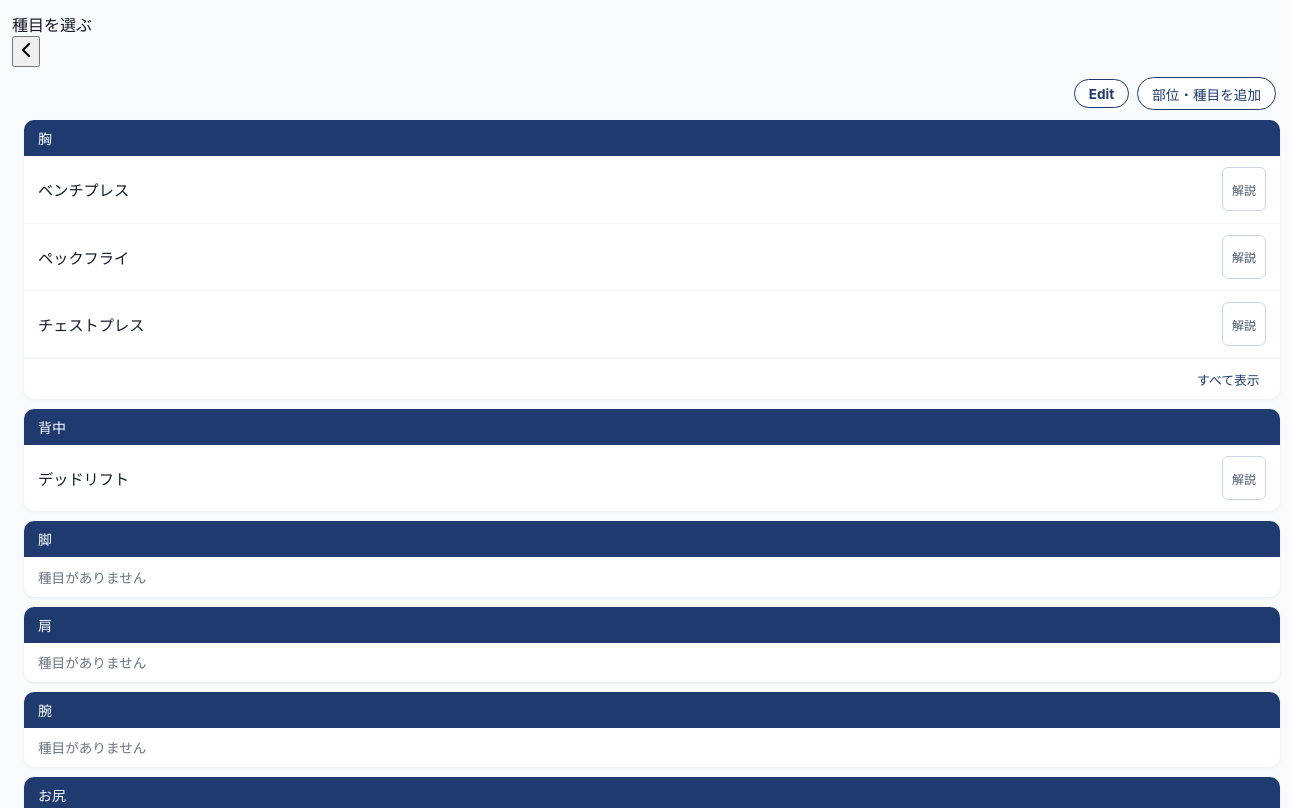
Test: ExerciseSelectPage › 「閉じる」クリックで「すべて表示」に戻る
The image size is (1292, 808).
Step 1. Click the button "すべて表示" → point(1228, 379), box [1191,366,1266,392]
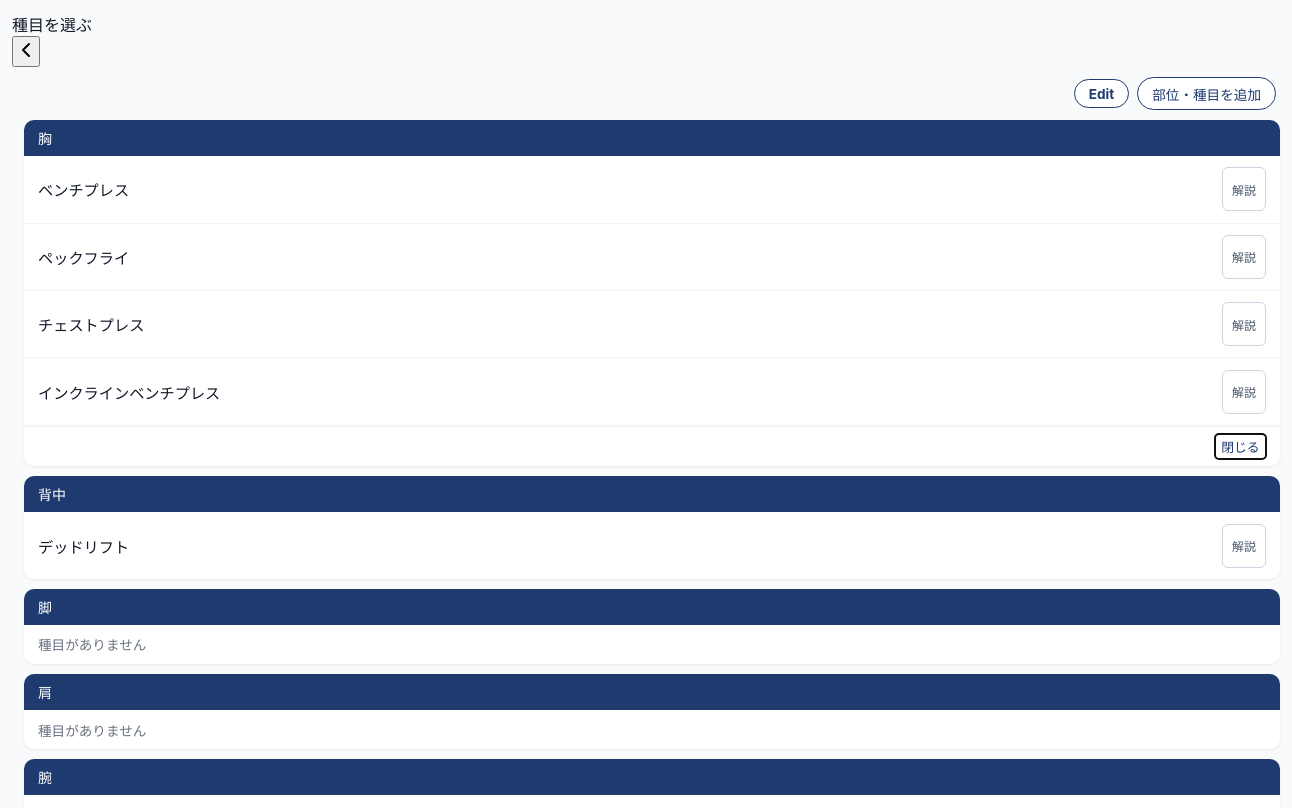
Step 2. Click the button "閉じる" → point(1240, 447), box [1215,434,1266,459]
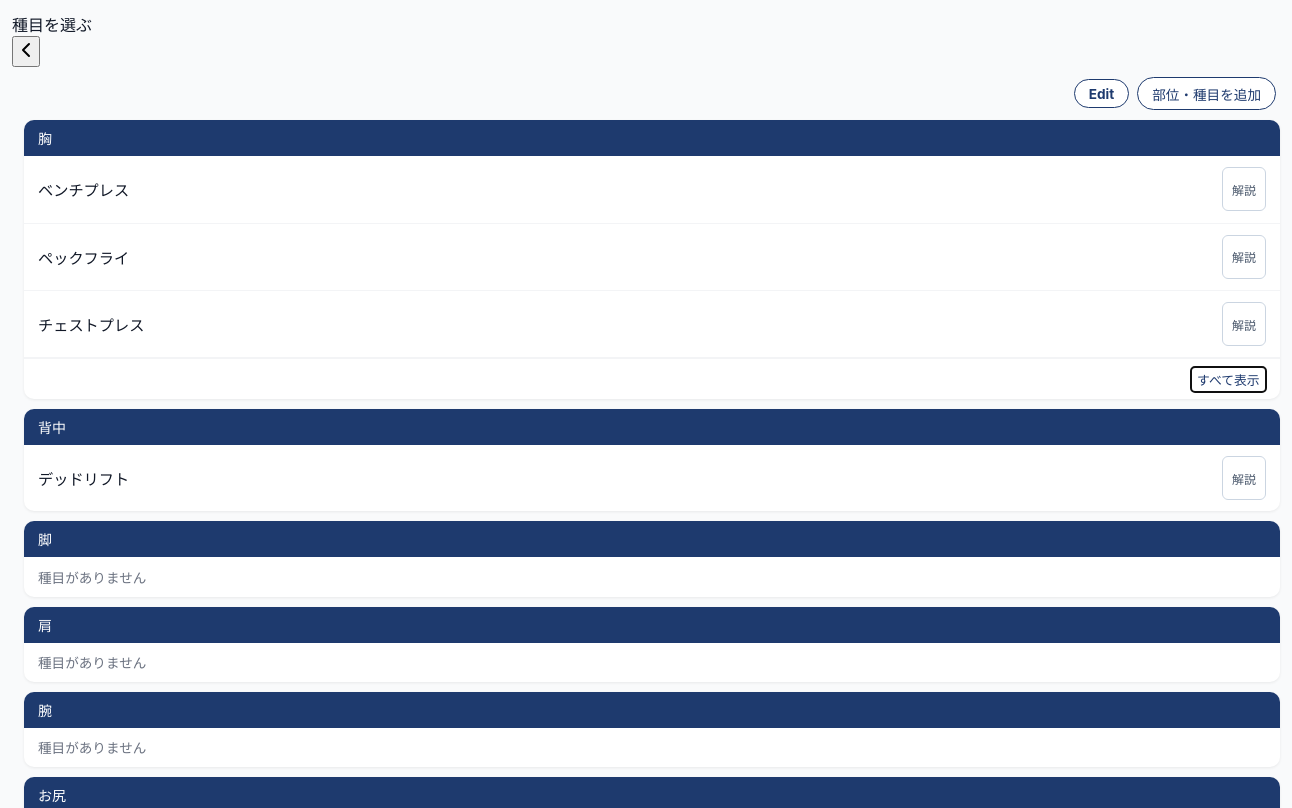
Expected: the button "すべて表示" is shown, [1191,366,1266,392]
